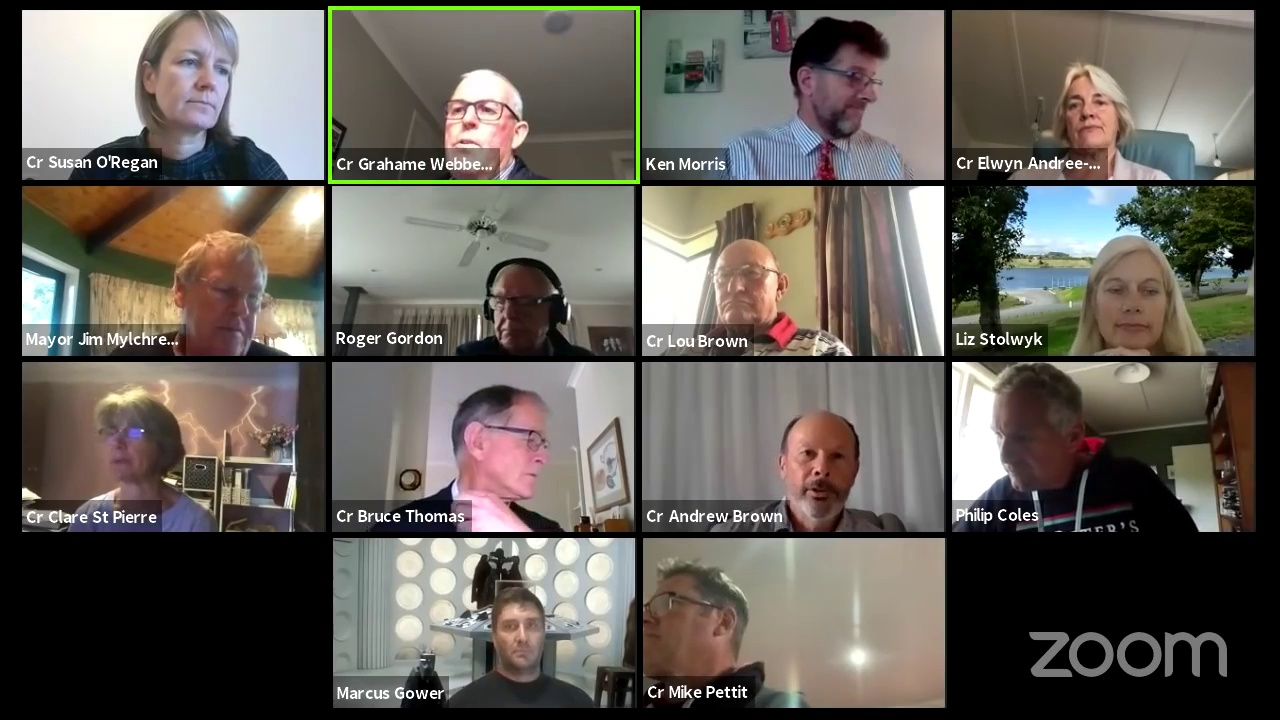Distracted: (977, 373, 1088, 496), (451, 385, 551, 491), (785, 32, 877, 142), (644, 573, 736, 673), (99, 393, 170, 485), (484, 266, 562, 346)
Not Distracted: (124, 19, 247, 141), (179, 233, 262, 352), (1089, 243, 1176, 346), (1051, 69, 1142, 151), (781, 412, 851, 515), (444, 71, 522, 161), (485, 596, 565, 682), (706, 244, 785, 320)
